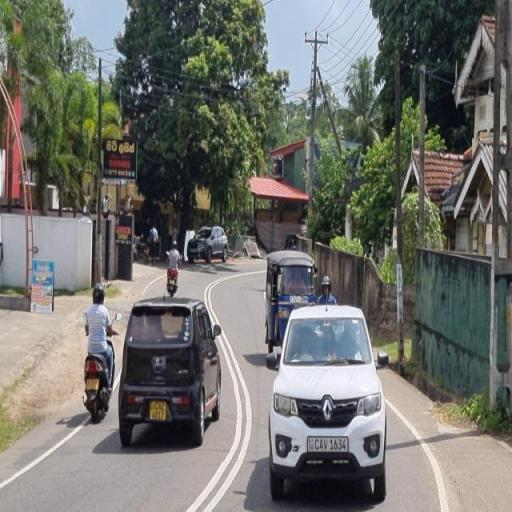double_white_line: (186, 277, 256, 510), (1, 412, 86, 490)
